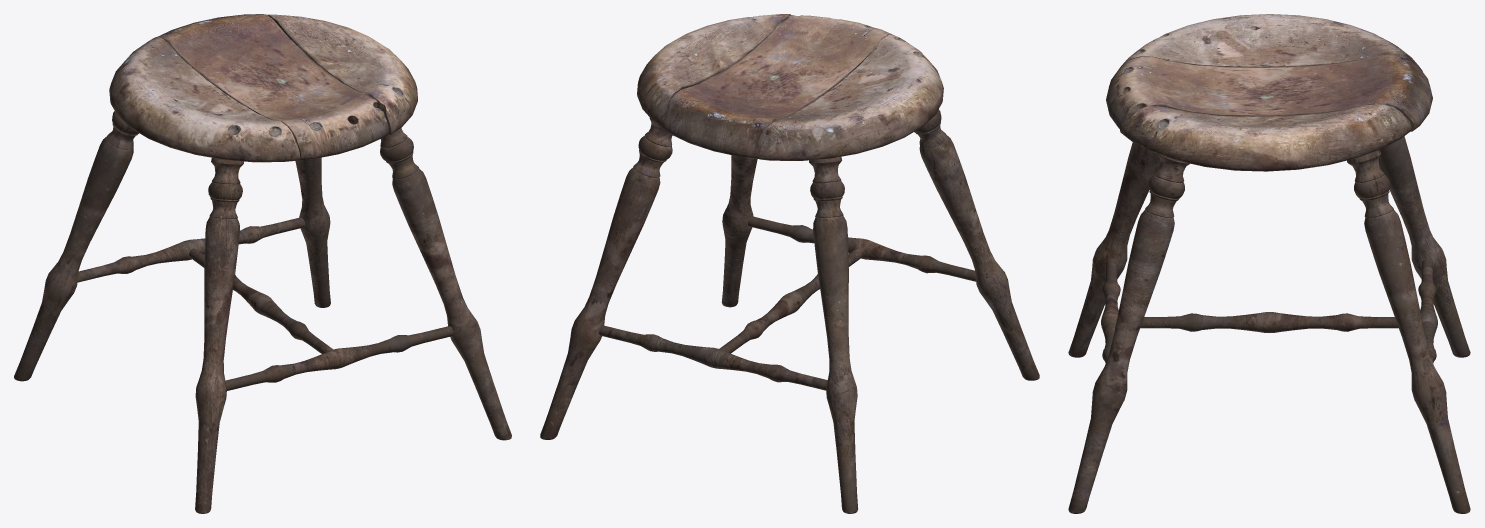
File: c27d7253-29d2-40ee-a629-c3bee14cf207.glb
3 renders of one model, left to right at view 1: azimuth 30°, elevation 25°; view 2: azimuth 150°, elevation 25°; view 3: azimuth 270°, elevation 25°, orthographic. The views are drawn at different scales.
Parts seen in each view (by area): view 1: wooden_stool_01; view 2: wooden_stool_01; view 3: wooden_stool_01.
Part boxes in pixels (x1,y1,x2,y2): wooden_stool_01: (14,14,511,513); wooden_stool_01: (540,14,1039,513); wooden_stool_01: (1068,14,1470,513).
Bounding box in the file's own units: 0.4254 × 0.4373 × 0.4424.
Materials: 1 (1 with a texture image).
